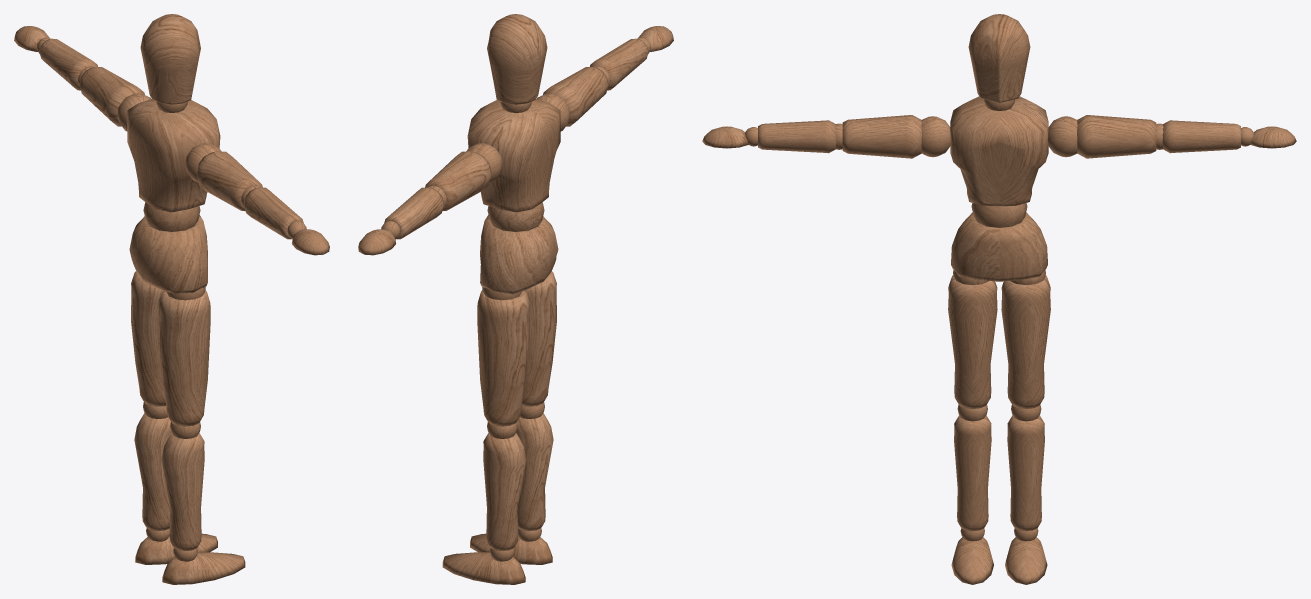
Rendered from dummy.obj.
The picture shows the model from 3 angles, left to right: view 1: azimuth 30°, elevation 25°; view 2: azimuth 150°, elevation 25°; view 3: azimuth 270°, elevation 25°; orthographic projection.
Parts seen in each view (by area): view 1: torso, dummy_Lupperleg_dummy_hips3_dummy_lpelvis_dummy_lupleg.002, waist, head, dummy_Llowerleg_dummy_hips3_dummy_lpelvis_dummy_lupleg_dummy_lk, dummy_Rupperleg_dummy_hips3_dummy_lpelvis_dummy_lupleg.003, dummy_Rlowerleg_dummy_hips3_dummy_lpelvis_dummy_lupleg_dummy_lk, dummy_Lbicep_dummy_hips3_dummy_belly_dummy_torso_dummy_lshoulde, dummy_Lfoot_dummy_hips3_dummy_lpelvis_dummy_lupleg_dummy_lknee_, dummy_Rbicep_dummy_hips3_dummy_belly_dummy_torso_dummy_lshoulde, dummy_Lforearm_dummy_hips3_dummy_belly_dummy_torso_dummy_lshoul, dummy_Rforearm_dummy_hips3_dummy_belly_dummy_torso_dummy_lshoul (+6 smaller); view 2: torso, dummy_Rupperleg_dummy_hips3_dummy_lpelvis_dummy_lupleg.003, waist, head, dummy_Rlowerleg_dummy_hips3_dummy_lpelvis_dummy_lupleg_dummy_lk, dummy_Lupperleg_dummy_hips3_dummy_lpelvis_dummy_lupleg.002, dummy_Llowerleg_dummy_hips3_dummy_lpelvis_dummy_lupleg_dummy_lk, dummy_Rbicep_dummy_hips3_dummy_belly_dummy_torso_dummy_lshoulde, dummy_Rfoot_dummy_hips3_dummy_lpelvis_dummy_lupleg_dummy_lknee_, dummy_Lbicep_dummy_hips3_dummy_belly_dummy_torso_dummy_lshoulde, dummy_Rforearm_dummy_hips3_dummy_belly_dummy_torso_dummy_lshoul, dummy_Lforearm_dummy_hips3_dummy_belly_dummy_torso_dummy_lshoul (+6 smaller); view 3: torso, dummy_Lupperleg_dummy_hips3_dummy_lpelvis_dummy_lupleg.002, dummy_Rupperleg_dummy_hips3_dummy_lpelvis_dummy_lupleg.003, waist, head, dummy_Llowerleg_dummy_hips3_dummy_lpelvis_dummy_lupleg_dummy_lk, dummy_Rlowerleg_dummy_hips3_dummy_lpelvis_dummy_lupleg_dummy_lk, dummy_Lbicep_dummy_hips3_dummy_belly_dummy_torso_dummy_lshoulde, dummy_Rbicep_dummy_hips3_dummy_belly_dummy_torso_dummy_lshoulde, dummy_Lforearm_dummy_hips3_dummy_belly_dummy_torso_dummy_lshoul, dummy_Rforearm_dummy_hips3_dummy_belly_dummy_torso_dummy_lshoul, dummy_Lfoot_dummy_hips3_dummy_lpelvis_dummy_lupleg_dummy_lknee_ (+6 smaller).
Boxes of the visible parts, left/top/right/bottom form: torso: left=127, top=99, right=220, bottom=212; dummy_Lupperleg_dummy_hips3_dummy_lpelvis_dummy_lupleg.002: left=158, top=290, right=210, bottom=426; waist: left=129, top=215, right=207, bottom=294; head: left=140, top=14, right=200, bottom=104; dummy_Llowerleg_dummy_hips3_dummy_lpelvis_dummy_lupleg_dummy_lk: left=161, top=433, right=204, bottom=550; dummy_Rupperleg_dummy_hips3_dummy_lpelvis_dummy_lupleg.003: left=131, top=271, right=166, bottom=406; dummy_Rlowerleg_dummy_hips3_dummy_lpelvis_dummy_lupleg_dummy_lk: left=134, top=413, right=171, bottom=531; dummy_Lbicep_dummy_hips3_dummy_belly_dummy_torso_dummy_lshoulde: left=196, top=151, right=262, bottom=211; dummy_Lfoot_dummy_hips3_dummy_lpelvis_dummy_lupleg_dummy_lknee_: left=162, top=552, right=245, bottom=584; dummy_Rbicep_dummy_hips3_dummy_belly_dummy_torso_dummy_lshoulde: left=79, top=67, right=144, bottom=126; dummy_Lforearm_dummy_hips3_dummy_belly_dummy_torso_dummy_lshoul: left=244, top=187, right=303, bottom=239; dummy_Rforearm_dummy_hips3_dummy_belly_dummy_torso_dummy_lshoul: left=39, top=38, right=97, bottom=90; torso: left=467, top=99, right=560, bottom=212; dummy_Rupperleg_dummy_hips3_dummy_lpelvis_dummy_lupleg.003: left=477, top=290, right=529, bottom=426; waist: left=480, top=215, right=558, bottom=294; head: left=487, top=14, right=547, bottom=104; dummy_Rlowerleg_dummy_hips3_dummy_lpelvis_dummy_lupleg_dummy_lk: left=483, top=433, right=526, bottom=550; dummy_Lupperleg_dummy_hips3_dummy_lpelvis_dummy_lupleg.002: left=521, top=271, right=556, bottom=406; dummy_Llowerleg_dummy_hips3_dummy_lpelvis_dummy_lupleg_dummy_lk: left=516, top=413, right=553, bottom=531; dummy_Rbicep_dummy_hips3_dummy_belly_dummy_torso_dummy_lshoulde: left=425, top=151, right=491, bottom=211; dummy_Rfoot_dummy_hips3_dummy_lpelvis_dummy_lupleg_dummy_lknee_: left=442, top=552, right=525, bottom=584; dummy_Lbicep_dummy_hips3_dummy_belly_dummy_torso_dummy_lshoulde: left=543, top=67, right=608, bottom=126; dummy_Rforearm_dummy_hips3_dummy_belly_dummy_torso_dummy_lshoul: left=384, top=187, right=443, bottom=239; dummy_Lforearm_dummy_hips3_dummy_belly_dummy_torso_dummy_lshoul: left=590, top=38, right=648, bottom=90; torso: left=950, top=96, right=1048, bottom=206; dummy_Lupperleg_dummy_hips3_dummy_lpelvis_dummy_lupleg.002: left=948, top=275, right=997, bottom=408; dummy_Rupperleg_dummy_hips3_dummy_lpelvis_dummy_lupleg.003: left=1001, top=275, right=1050, bottom=408; waist: left=951, top=212, right=1047, bottom=281; head: left=968, top=14, right=1030, bottom=102; dummy_Llowerleg_dummy_hips3_dummy_lpelvis_dummy_lupleg_dummy_lk: left=954, top=415, right=991, bottom=531; dummy_Rlowerleg_dummy_hips3_dummy_lpelvis_dummy_lupleg_dummy_lk: left=1007, top=415, right=1044, bottom=531; dummy_Lbicep_dummy_hips3_dummy_belly_dummy_torso_dummy_lshoulde: left=842, top=115, right=921, bottom=158; dummy_Rbicep_dummy_hips3_dummy_belly_dummy_torso_dummy_lshoulde: left=1077, top=115, right=1156, bottom=158; dummy_Lforearm_dummy_hips3_dummy_belly_dummy_torso_dummy_lshoul: left=758, top=120, right=836, bottom=153; dummy_Rforearm_dummy_hips3_dummy_belly_dummy_torso_dummy_lshoul: left=1162, top=120, right=1240, bottom=153; dummy_Lfoot_dummy_hips3_dummy_lpelvis_dummy_lupleg_dummy_lknee_: left=951, top=537, right=993, bottom=584.
Bounding box in the file's own units: 31.82 × 177 × 177.
